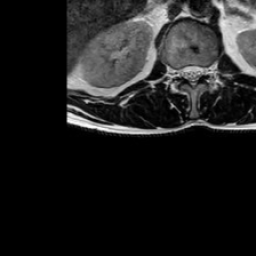CCS_normal: (188, 55, 197, 95)
LFS_normal: (204, 55, 212, 84)
LLS_normal: (197, 55, 205, 85)
RFS_normal: (170, 57, 178, 85)
RLS_normal: (178, 57, 188, 85)
